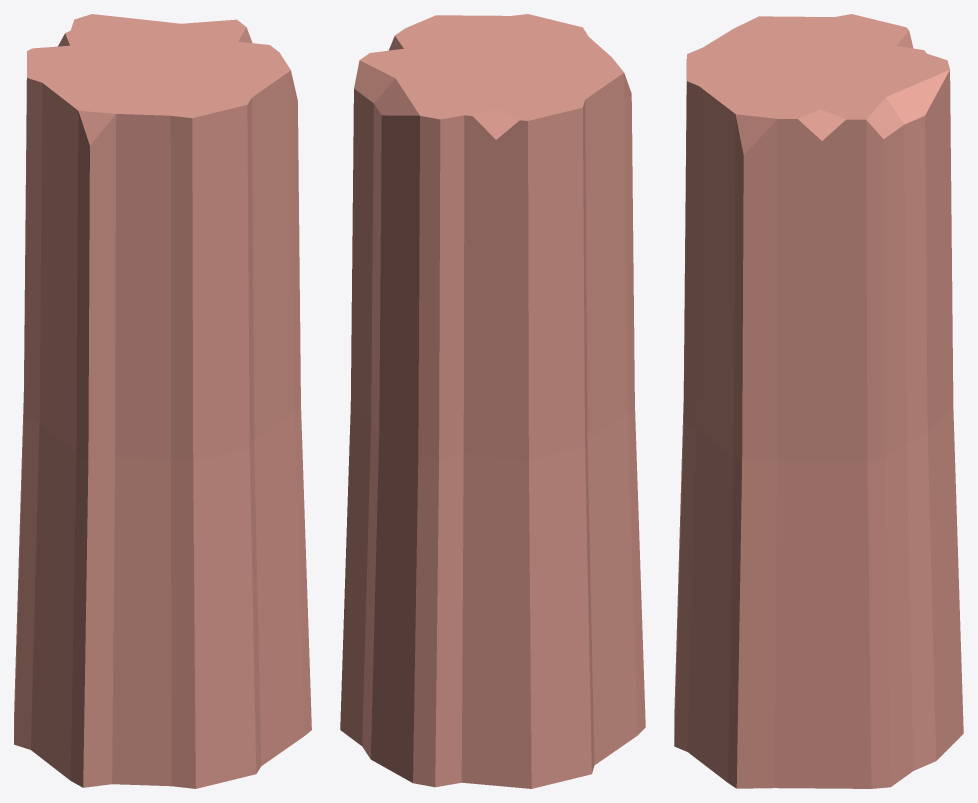
The model's file is SuperGrid_Hexagon_020_Vlad.fbx.
The picture shows the model from 3 angles, left to right: view 1: azimuth 30°, elevation 25°; view 2: azimuth 150°, elevation 25°; view 3: azimuth 270°, elevation 25°; orthographic projection.
Visible parts, largest first — view 1: SuperGrid_Hexagon.020; view 2: SuperGrid_Hexagon.020; view 3: SuperGrid_Hexagon.020.
Part boxes in pixels (x1,y1,x2,y2): SuperGrid_Hexagon.020: (14,14,311,788); SuperGrid_Hexagon.020: (340,14,645,788); SuperGrid_Hexagon.020: (674,14,963,788).
Bounding box in the file's own units: 18774 × 50000 × 19753.
